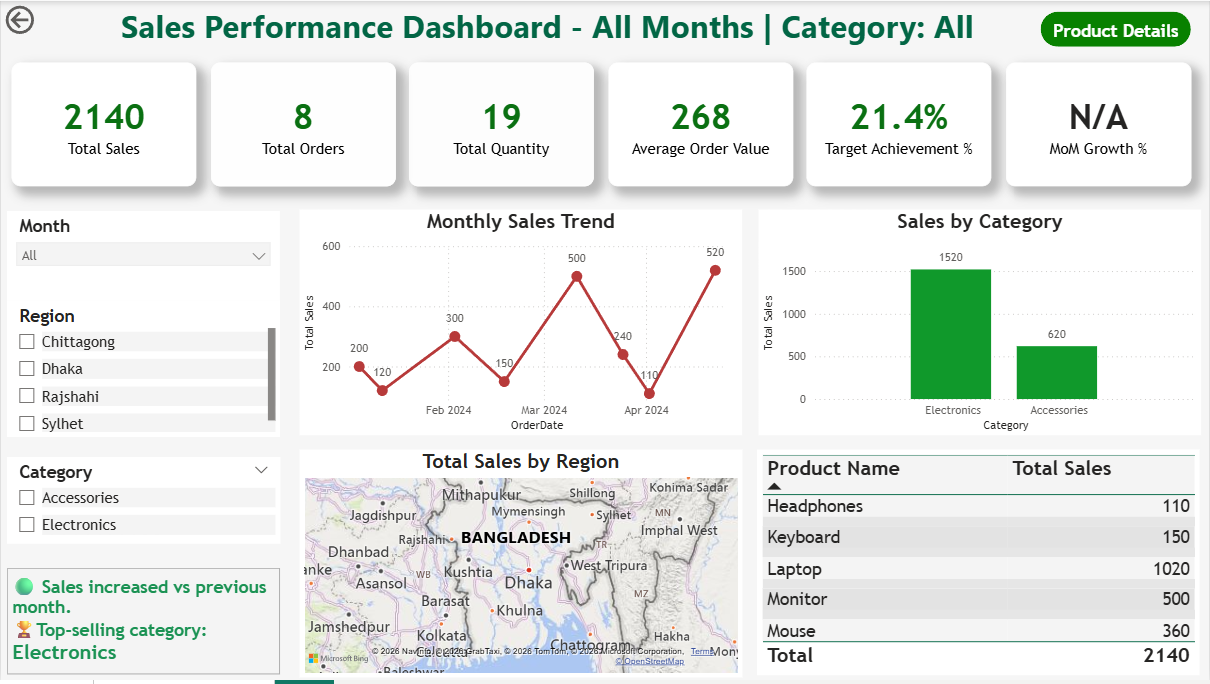

Layout of this report page (visuals, bound fields, positions):
{"tool":"powerbi","page":{"name":"Dashboard","canvas":[1280,720],"ordinal":0},"visuals":[{"type":"card","fields":{"Values":["Sales.Total Sales"]},"box":[10.4,65.7,196.2,131.4],"z":0,"group":"g1"},{"type":"clusteredColumnChart","title":"Sales by Category","fields":{"Category":["Products.Category"],"Y":["Sales.Total Sales"]},"box":[803.1,221.8,469.6,239.6],"z":0},{"type":"card","fields":{"Values":["Sales.Total Orders"]},"box":[221.3,65.7,196.2,131.4],"z":1000,"group":"g1"},{"type":"lineChart","title":"Monthly Sales Trend","fields":{"Category":["Sales.OrderDate.Variation.Date Hierarchy.Month"],"Y":["Sales.Total Sales"]},"box":[315.7,221.8,469.6,239.6],"z":1000},{"type":"card","fields":{"Values":["Sales.Total Quantity"]},"box":[432.3,65.7,196.2,131.4],"z":2000,"group":"g1"},{"type":"filledMap","fields":{"Category":["Customers.Region"]},"box":[315.7,475,469.6,241.3],"z":2000},{"type":"card","fields":{"Values":["Sales.Average Order Value"]},"box":[643.2,65.7,196.2,131.4],"z":3000,"group":"g1"},{"type":"tableEx","fields":{"Values":["Products.ProductName","Sales.Total Sales"]},"box":[801.5,475,469.6,239.6],"z":3000},{"type":"card","fields":{"Values":["Sales.Target Achievement %"]},"box":[854.2,65.7,196.2,131.4],"z":4000,"group":"g1"},{"type":"slicer","fields":{"Values":["DateTable.Month"]},"box":[6.3,222.1,289.4,95.4],"z":4000},{"type":"slicer","fields":{"Values":["Customers.Region"]},"box":[6.3,317.5,289.4,143.9],"z":5000},{"type":"textbox","box":[6.4,601.3,289.5,112.9],"z":6000},{"type":"slicer","fields":{"Values":["Products.Category"]},"box":[6.5,484.1,289.8,92.3],"z":7000},{"type":"actionButton","title":"Product Details","box":[1102.7,10.9,159.5,37.5],"z":8000},{"type":"card","fields":{"Values":["Sales.MoM Growth %"]},"box":[1065.1,65.7,196.6,131.4],"z":8002,"group":"g1"},{"type":"group","id":"g1","title":"Group 1","box":[10.4,65.7,1251.3,131.4],"z":9000},{"type":"actionButton","box":[0,0,100,40],"z":10000},{"type":"card","fields":{"Values":["Sales.Dynamic_Title"]},"box":[62.6,0,1033.9,51.6],"z":11000}]}

Visuals, with their boxes in screenshot pixels (x1, y1, x2, y2), scaled from the page's 1280x720 canvas onto the 1210x684 screenshot:
card - Sales.Total Sales: bbox(10, 62, 195, 187)
"Sales by Category" clusteredColumnChart: bbox(759, 211, 1203, 438)
card - Sales.Total Orders: bbox(209, 62, 395, 187)
"Monthly Sales Trend" lineChart: bbox(298, 211, 742, 438)
card - Sales.Total Quantity: bbox(409, 62, 594, 187)
filledMap - Customers.Region: bbox(298, 451, 742, 680)
card - Sales.Average Order Value: bbox(608, 62, 793, 187)
tableEx - Products.ProductName x Sales.Total Sales: bbox(758, 451, 1202, 679)
card - Sales.Target Achievement %: bbox(807, 62, 993, 187)
slicer - DateTable.Month: bbox(6, 211, 280, 302)
slicer - Customers.Region: bbox(6, 302, 280, 438)
textbox: bbox(6, 571, 280, 678)
slicer - Products.Category: bbox(6, 460, 280, 548)
"Product Details" actionButton: bbox(1042, 10, 1193, 46)
card - Sales.MoM Growth %: bbox(1007, 62, 1193, 187)
"Group 1" group: bbox(10, 62, 1193, 187)
actionButton: bbox(0, 0, 95, 38)
card - Sales.Dynamic_Title: bbox(59, 0, 1037, 49)
